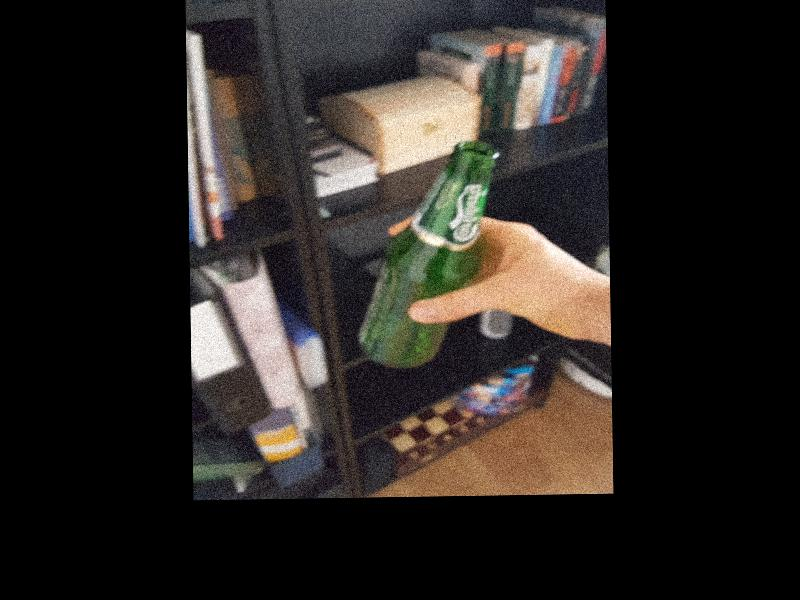Beer: (351, 141, 499, 369)
